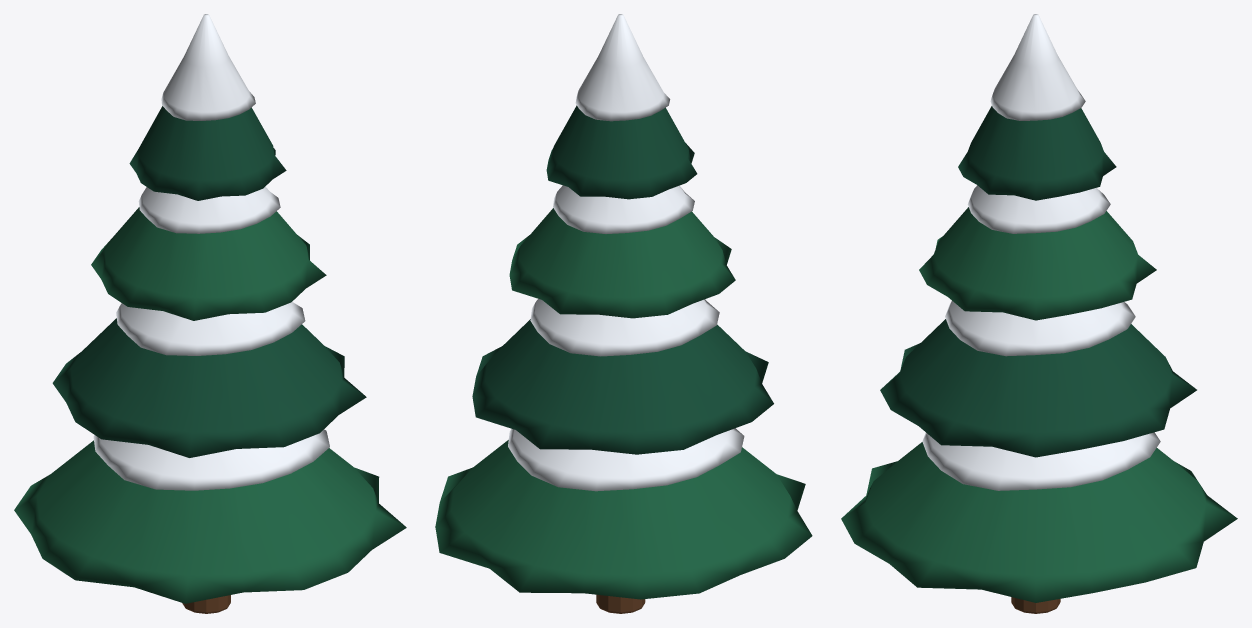
Rendered from snowpine_tall.glb.
3 views of the same model, side by side, from view 1: azimuth 30°, elevation 25°; view 2: azimuth 150°, elevation 25°; view 3: azimuth 270°, elevation 25° (orthographic).
Parts seen in each view (by area): view 1: snowpine_tall; view 2: snowpine_tall; view 3: snowpine_tall.
Part boxes in pixels (left/top/right/bottom): snowpine_tall: left=14, top=14, right=406, bottom=613; snowpine_tall: left=435, top=14, right=812, bottom=613; snowpine_tall: left=841, top=14, right=1237, bottom=613.
Size of the model in its own units: 4.11 by 6.87 by 4.19.
